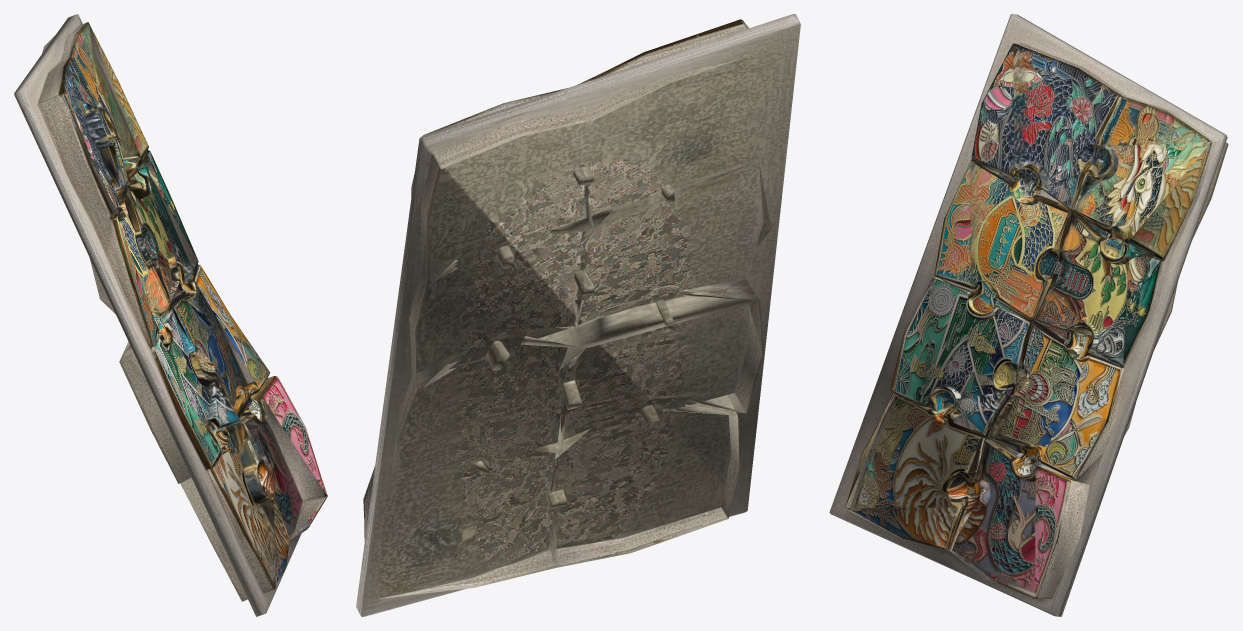
3 views of the same model, side by side, from view 1: azimuth 30°, elevation 25°; view 2: azimuth 150°, elevation 25°; view 3: azimuth 270°, elevation 25° (orthographic). The views are drawn at different scales.
Visible parts, largest first — view 1: tripo_node_a19e4cec-1690-4ca2-a262-8374d55eb19e; view 2: tripo_node_a19e4cec-1690-4ca2-a262-8374d55eb19e; view 3: tripo_node_a19e4cec-1690-4ca2-a262-8374d55eb19e.
Part boxes in pixels (x1,y1,x2,y2): tripo_node_a19e4cec-1690-4ca2-a262-8374d55eb19e: [14, 14, 327, 616]; tripo_node_a19e4cec-1690-4ca2-a262-8374d55eb19e: [356, 14, 800, 616]; tripo_node_a19e4cec-1690-4ca2-a262-8374d55eb19e: [829, 14, 1228, 616].
Bounding box in the file's own units: 0.6288 × 0.9618 × 0.7421.
1 material, 1 textured.
